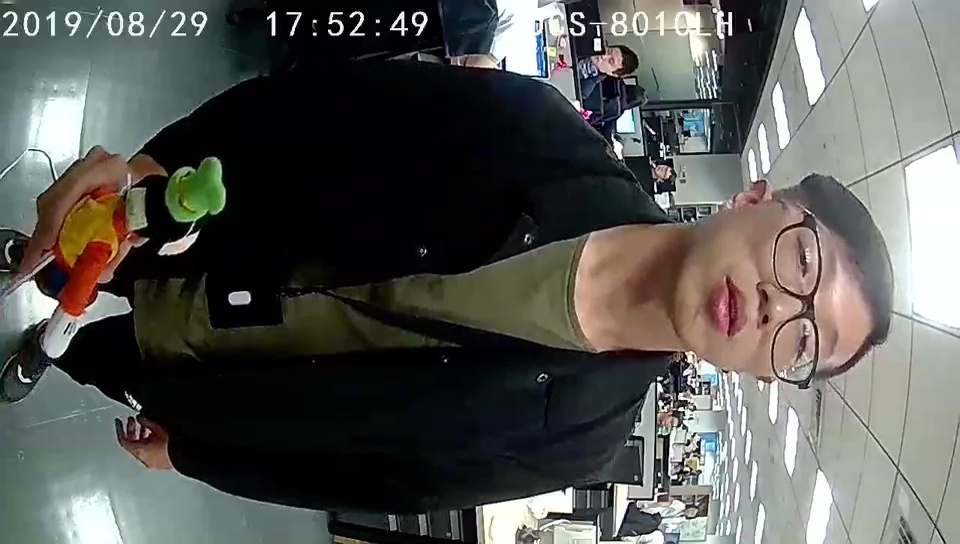goofy: (38, 154, 223, 358)
